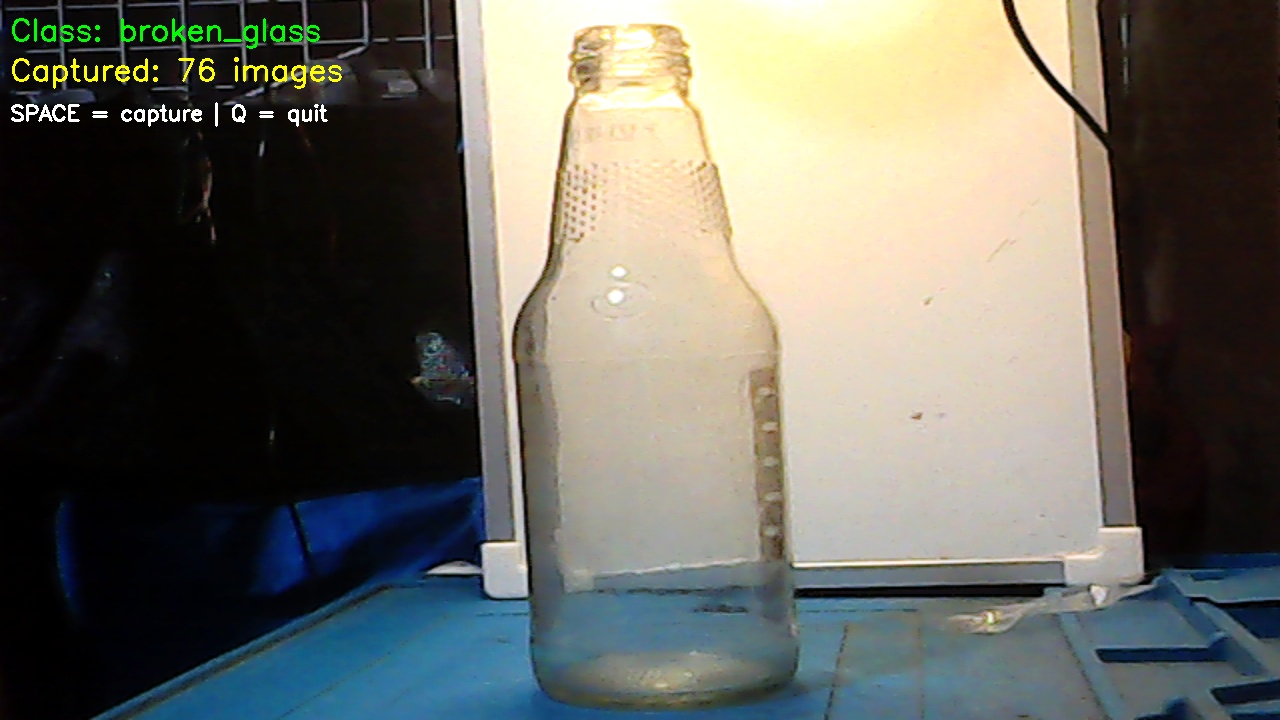broken_glass: (520, 13, 737, 253)
